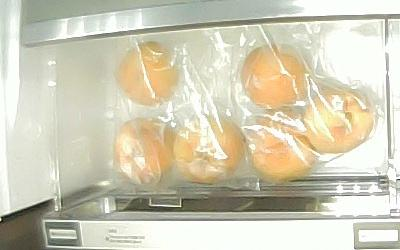peach_vinyl: (249, 110, 316, 181), (175, 116, 243, 184), (241, 42, 308, 110), (303, 88, 373, 152), (116, 40, 178, 106), (114, 117, 174, 183)
